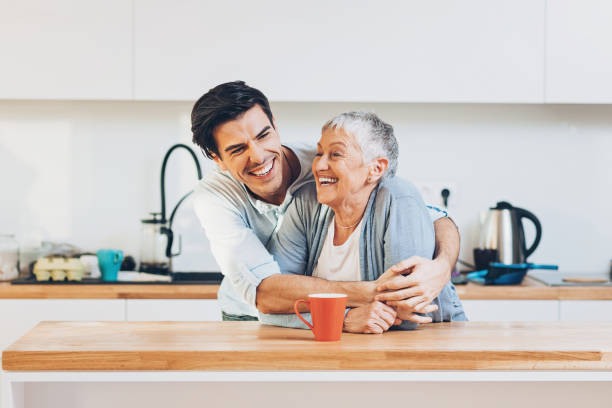without mask: (310, 116, 385, 210), (213, 102, 288, 196)
